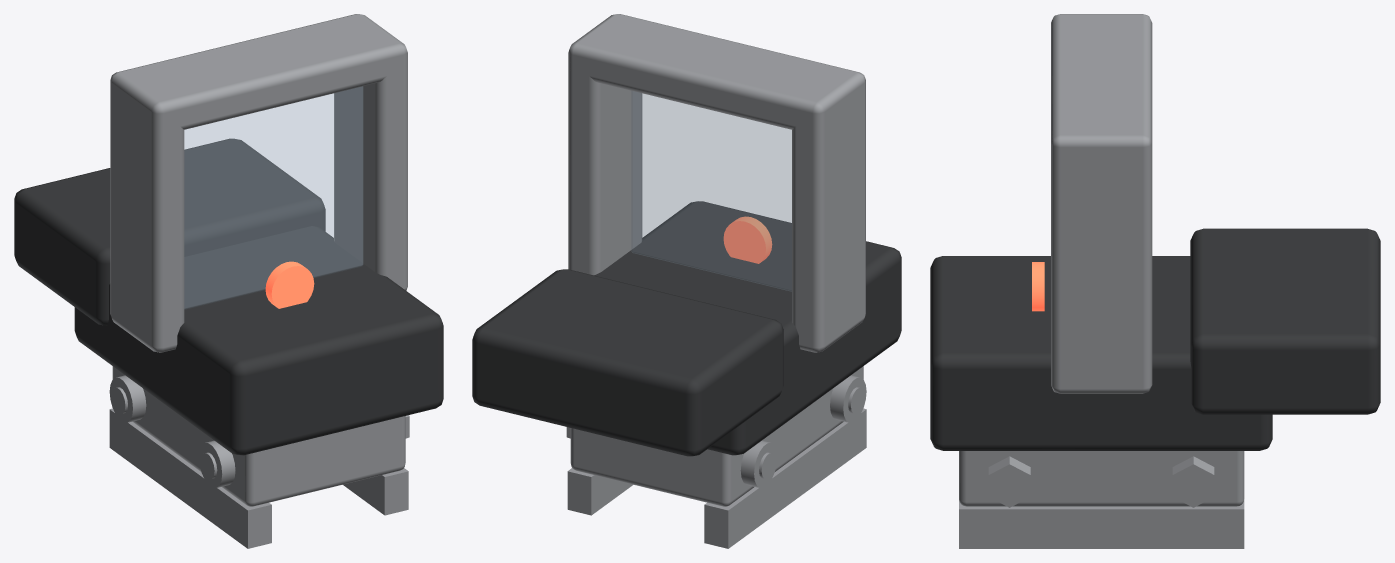
File: fps-weapon-set-and-firing-range-holographic-sight-fb57b146__19445.glb
The picture shows the model from 3 angles, left to right: view 1: azimuth 30°, elevation 25°; view 2: azimuth 150°, elevation 25°; view 3: azimuth 270°, elevation 25°; orthographic projection. The views are drawn at different scales.
Parts seen in each view (by area): view 1: holographic-sight; view 2: holographic-sight; view 3: holographic-sight.
Boxes of the visible parts, <box> form: holographic-sight: <box>14,14,443,548</box>; holographic-sight: <box>472,14,901,548</box>; holographic-sight: <box>930,14,1380,548</box>.
Bounding box in the file's own units: 0.048 × 0.0755 × 0.071.
